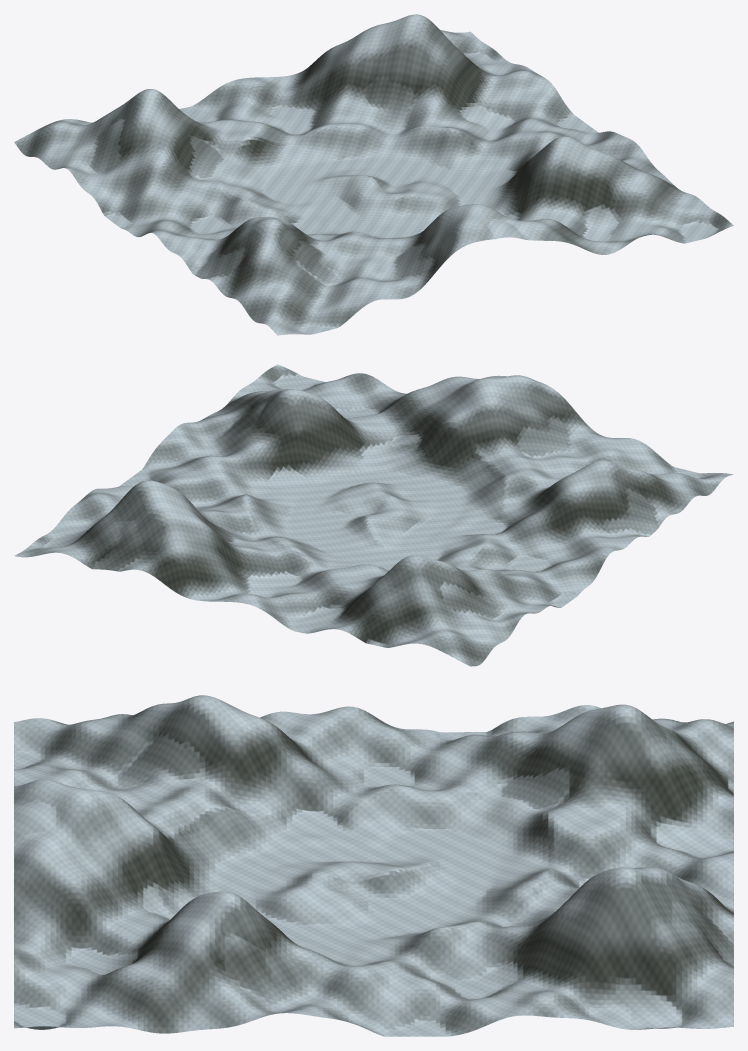
Rendered from terrain-alpine.glb.
The picture shows the model from 3 angles, top to bottom: view 1: azimuth 30°, elevation 25°; view 2: azimuth 150°, elevation 25°; view 3: azimuth 270°, elevation 25°; orthographic projection. The views are drawn at different scales.
Parts seen in each view (by area): view 1: Alpine biome; view 2: Alpine biome; view 3: Alpine biome.
Boxes of the visible parts, left/top/right/bottom form: Alpine biome: left=14, top=14, right=733, bottom=335; Alpine biome: left=14, top=364, right=732, bottom=666; Alpine biome: left=14, top=695, right=733, bottom=1036.
Size of the model in its own units: 1700 by 272 by 1700.
Materials: 1 (1 with a texture image).
